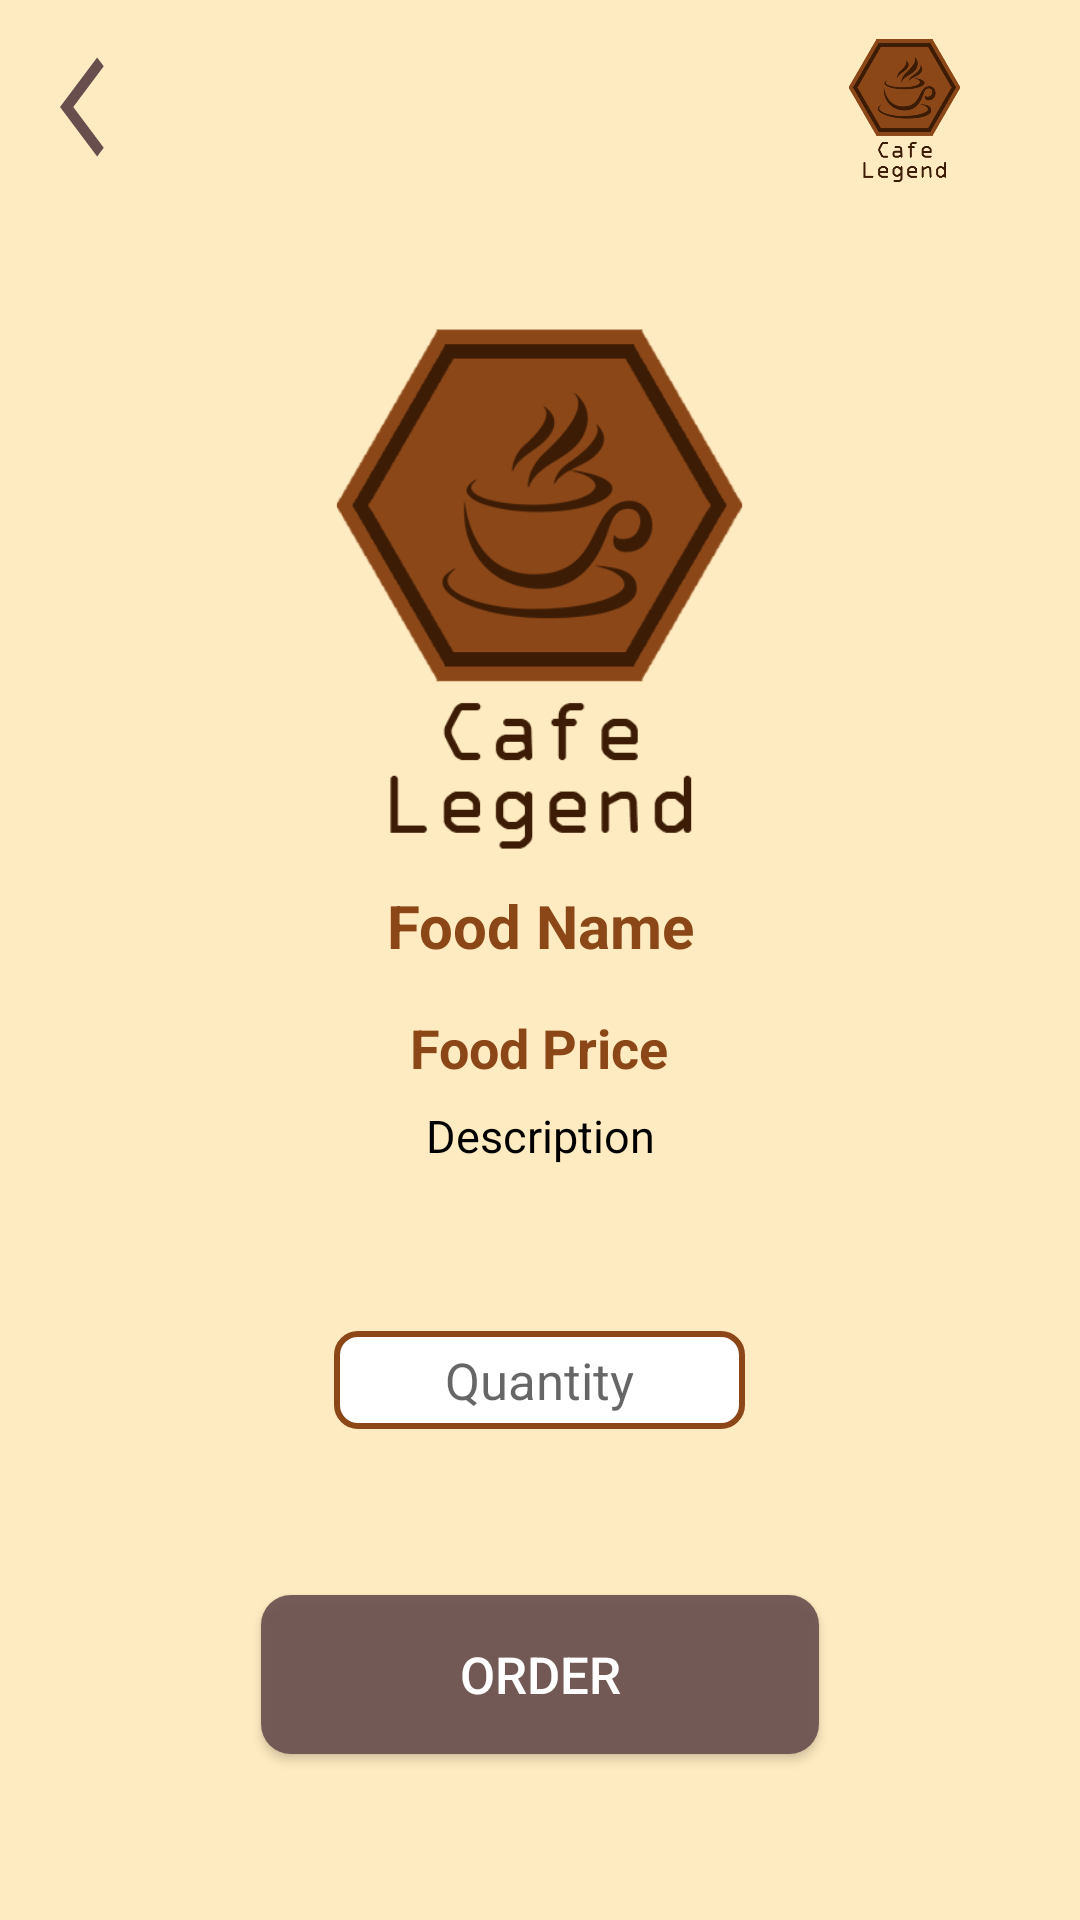

Where to tap for icons on this 1080 x 1920 app screen, as point (x, y):
arrow back: point (82, 107)
